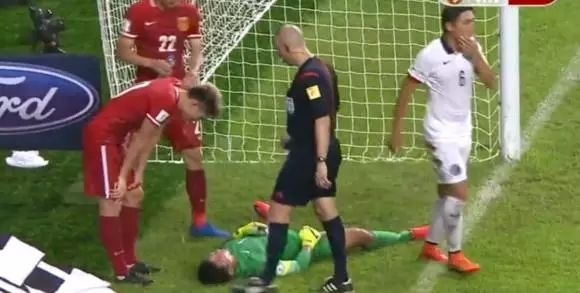falling: (190, 197, 446, 282)
